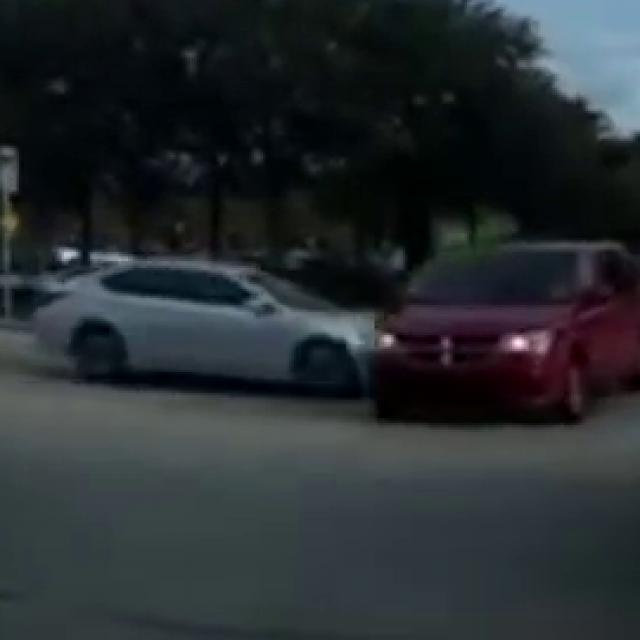accident: (91, 250, 588, 440)
